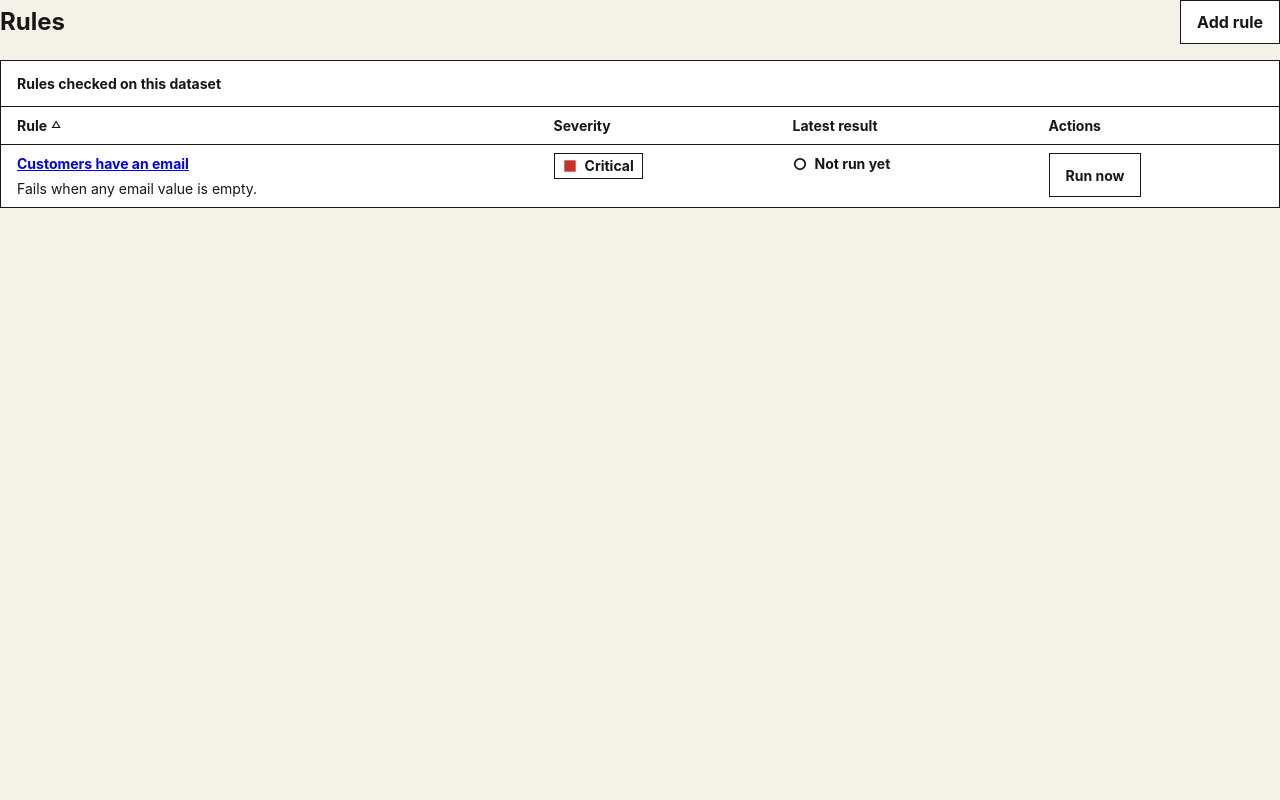
Test: Dataset rules › builds a rule: problems first, then a preview, then one save
The image size is (1280, 800).
Click the button "Add rule".
click(1230, 22)  # box [1180, 0, 1279, 44]
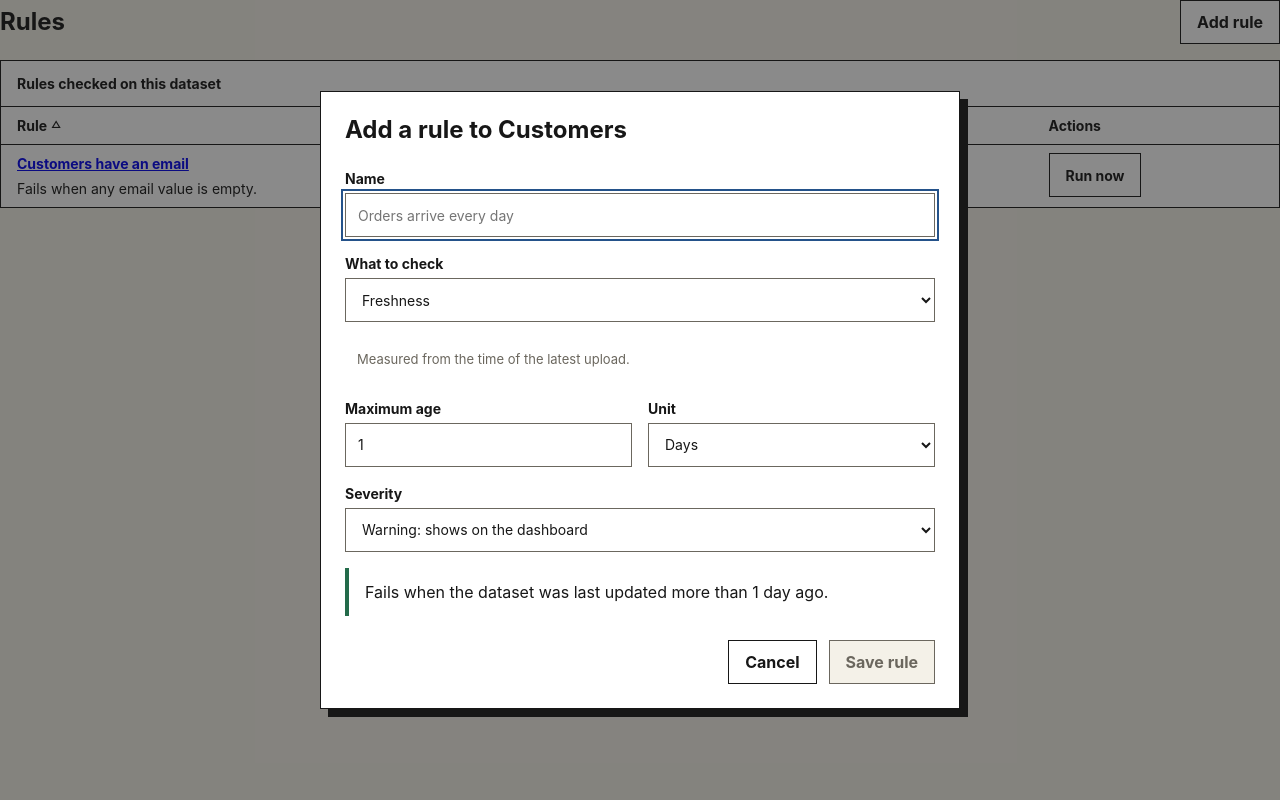
Type "Customers have an email" into the field labelled "Name".
click(640, 215); type("Customers have an email")  # box [345, 193, 935, 237]
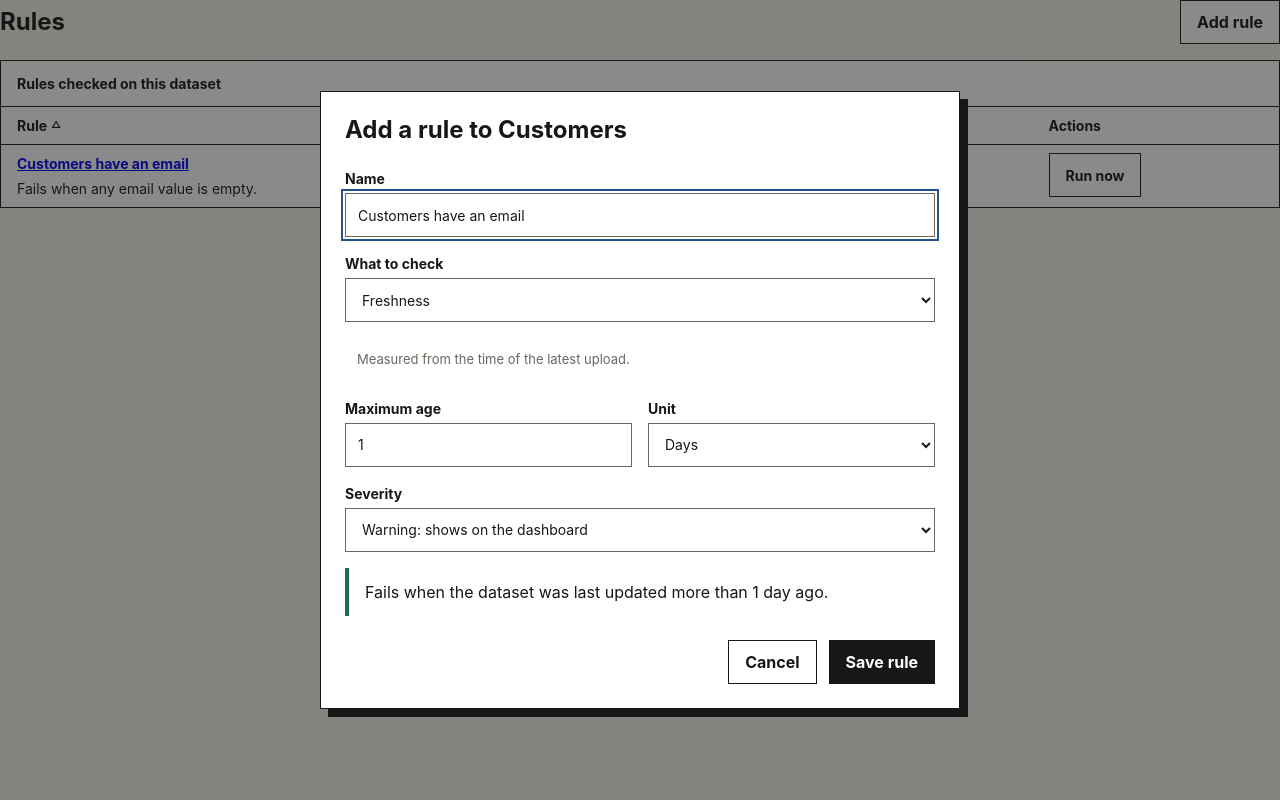
Select "Empty values" in the dropdown labelled "What to check" at (640, 300), box [345, 278, 935, 322]
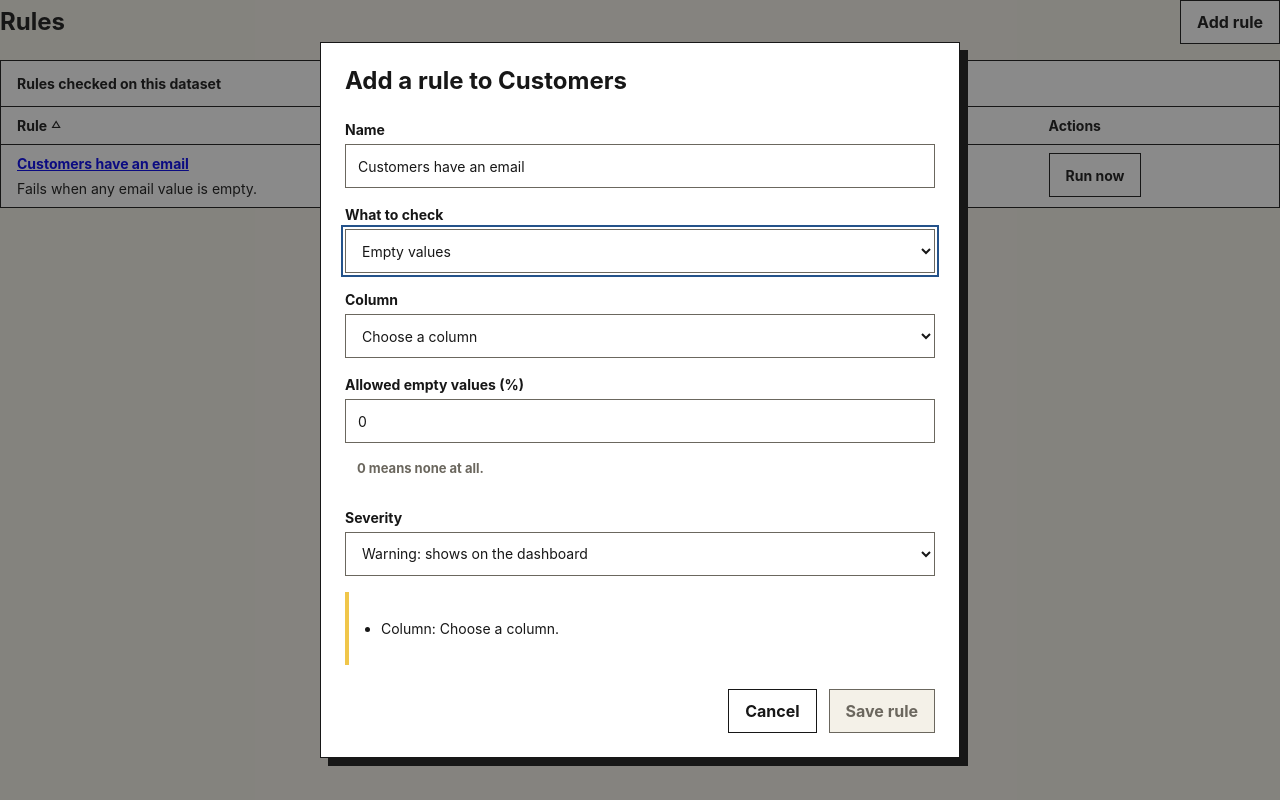
Expected: the message reads "Column: Choose a column.", [381, 620, 559, 636]
Expected: the button "Save rule" is disabled, [828, 688, 935, 732]
Select "email (text)" in the dropdown labelled "Column" at (640, 336), box [345, 314, 935, 358]
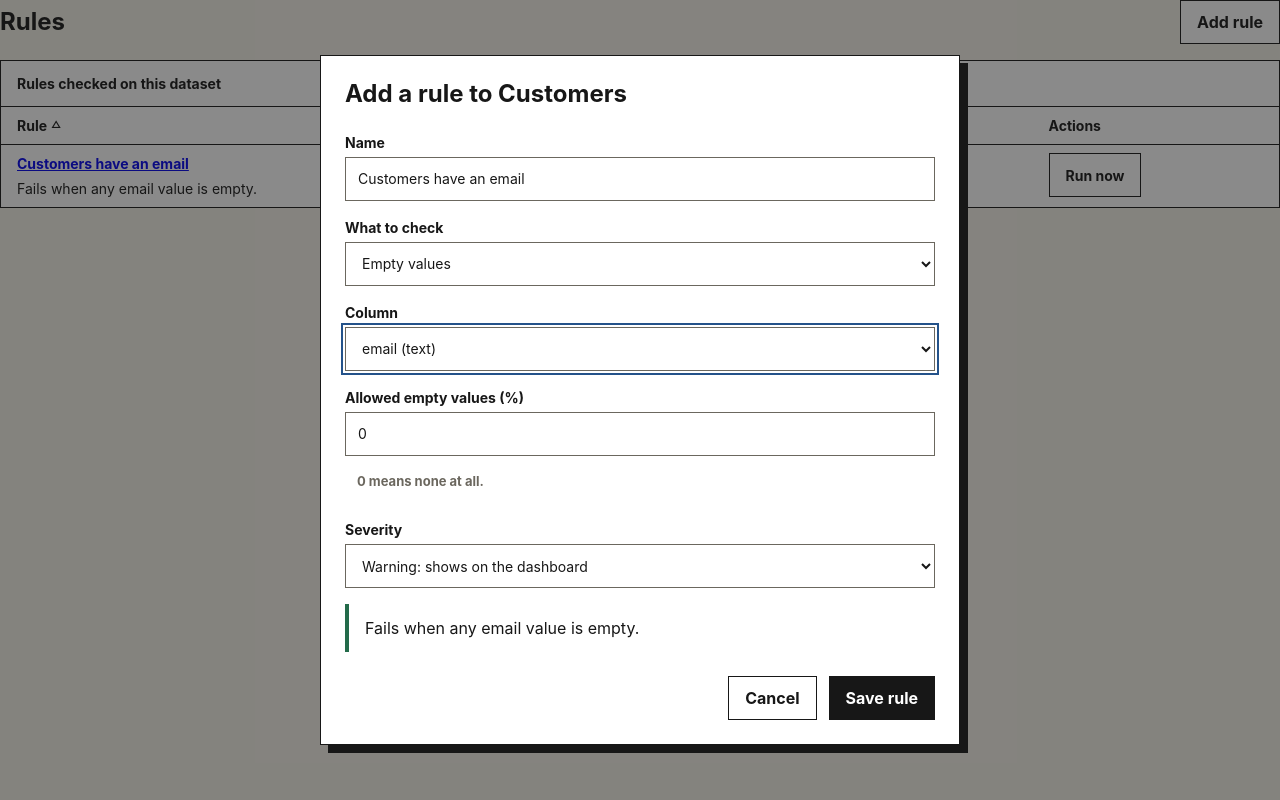
Expected: the message reads "Fails when any email value is empty.", [365, 618, 639, 638]
Click the button "Save rule".
click(882, 698)  # box [828, 676, 935, 720]
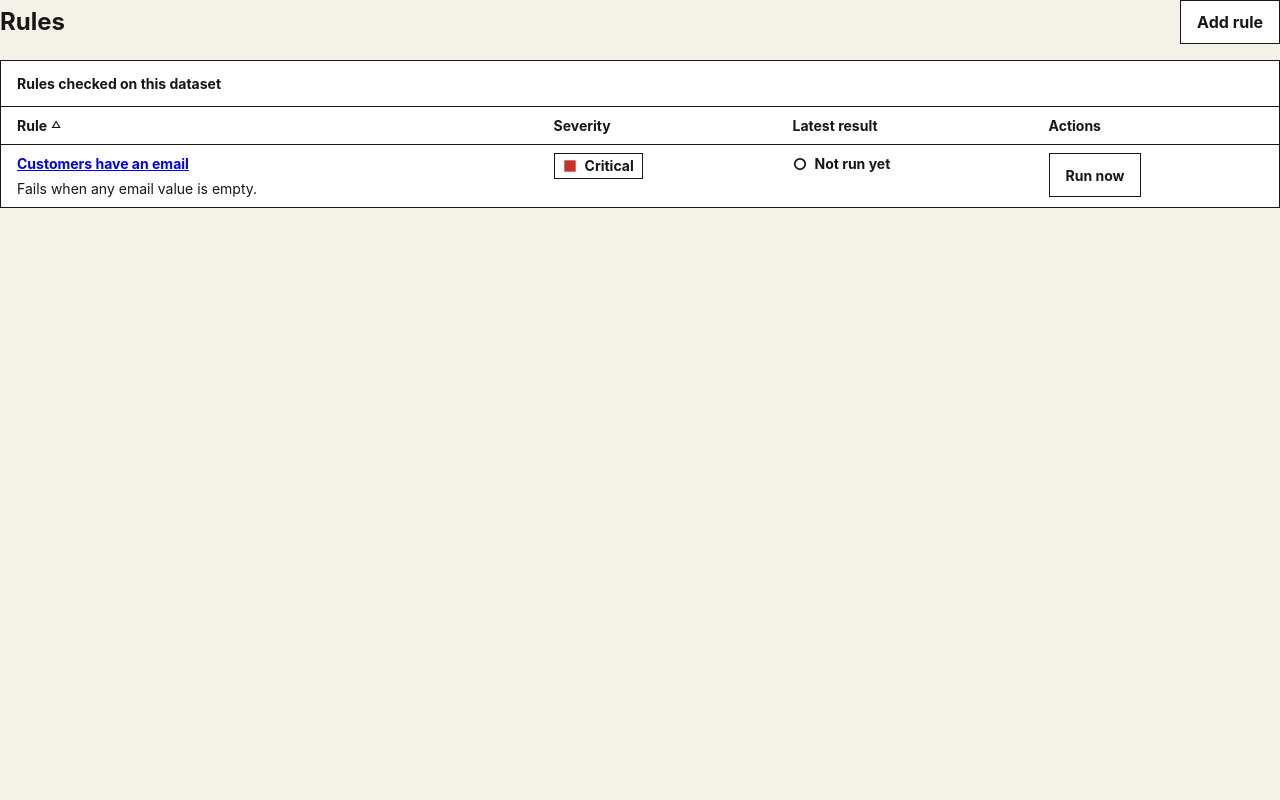
Expected: the text "Fails when any email value is empty." is shown, [17, 180, 257, 197]
Expected: the dialog is gone
